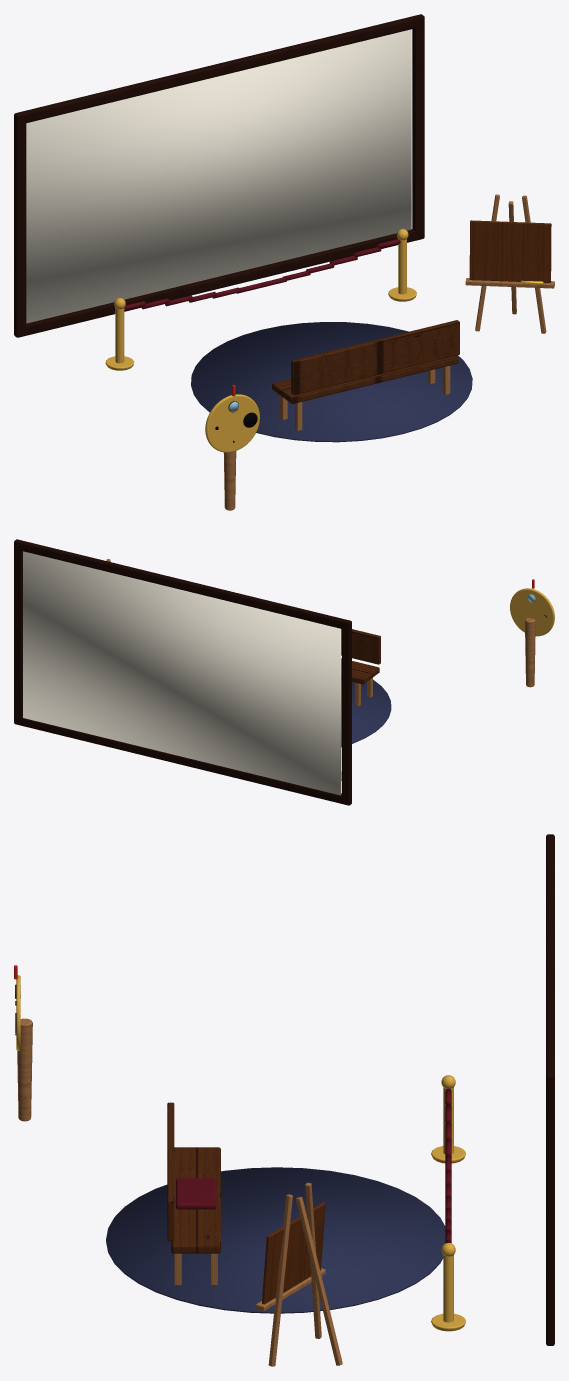
The model's file is obscuraroom.glb.
3 renders of one model, top to bottom at view 1: azimuth 30°, elevation 25°; view 2: azimuth 150°, elevation 25°; view 3: azimuth 270°, elevation 25°, orthographic. The views are drawn at different scales.
Parts seen in each view (by area): view 1: or_gesso, or_rug, or_bench_back, or_frame_h.001, easel_board, or_frame_h, or_frame_v, or_frame_v.001, or_wheel, or_bench_seat, or_wheelpost; view 2: or_gesso, or_frame_h.001, or_frame_h, or_frame_v, or_rug, or_frame_v.001, or_wheel, or_bench_back, or_wheelpost, or_bench_seat; view 3: or_rug, or_bench_seat, easel_board, or_frame_v.001, or_frame_h.001, or_wheelpost, or_cushion, or_easel_back, or_easel_leg.001, or_bench_back, or_easel_leg, or_post.001.
Part boxes in pixels (left/top/right/bottom): or_gesso: left=26, top=29, right=411, bottom=323; or_rug: left=191, top=322, right=472, bottom=442; or_bench_back: left=291, top=320, right=459, bottom=394; or_frame_h.001: left=14, top=14, right=424, bottom=123; easel_board: left=469, top=220, right=551, bottom=282; or_frame_h: left=14, top=229, right=424, bottom=337; or_frame_v: left=14, top=111, right=26, bottom=337; or_frame_v.001: left=412, top=14, right=424, bottom=240; or_wheel: left=205, top=394, right=259, bottom=452; or_bench_seat: left=272, top=356, right=458, bottom=403; or_wheelpost: left=223, top=451, right=236, bottom=510; or_gesso: left=23, top=551, right=341, bottom=795; or_frame_h.001: left=14, top=539, right=351, bottom=629; or_frame_h: left=14, top=717, right=351, bottom=805; or_frame_v: left=342, top=620, right=351, bottom=805; or_rug: left=341, top=679, right=391, bottom=747; or_frame_v.001: left=14, top=540, right=22, bottom=724; or_wheel: left=510, top=588, right=554, bottom=636; or_bench_back: left=341, top=629, right=380, bottom=664; or_wheelpost: left=525, top=617, right=535, bottom=687; or_bench_seat: left=341, top=658, right=379, bottom=684; or_rug: left=106, top=1167, right=445, bottom=1313; or_bench_seat: left=171, top=1147, right=220, bottom=1253; easel_board: left=262, top=1202, right=325, bottom=1304; or_frame_v.001: left=546, top=1070, right=554, bottom=1345; or_frame_h.001: left=546, top=834, right=554, bottom=1086; or_wheelpost: left=17, top=1018, right=32, bottom=1121; or_cushion: left=176, top=1178, right=216, bottom=1209; or_easel_back: left=296, top=1197, right=342, bottom=1365; or_easel_leg.001: left=268, top=1194, right=292, bottom=1366; or_bench_back: left=167, top=1102, right=174, bottom=1241; or_easel_leg: left=305, top=1182, right=321, bottom=1338; or_post.001: left=443, top=1255, right=453, bottom=1322.
Bounding box in the file's own units: 7.01 × 3.52 × 6.
12 materials, 4 textured.
